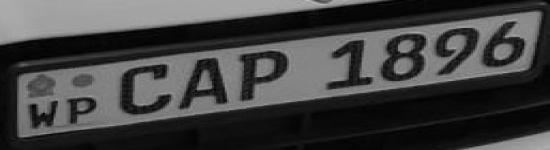1: (320, 38, 376, 92)
6: (483, 18, 530, 72)
8: (378, 31, 430, 83)
9: (432, 25, 481, 78)
A: (175, 56, 233, 110)
C: (116, 61, 176, 118)
P: (235, 48, 293, 102), (59, 94, 104, 126)
W: (24, 99, 61, 132)
